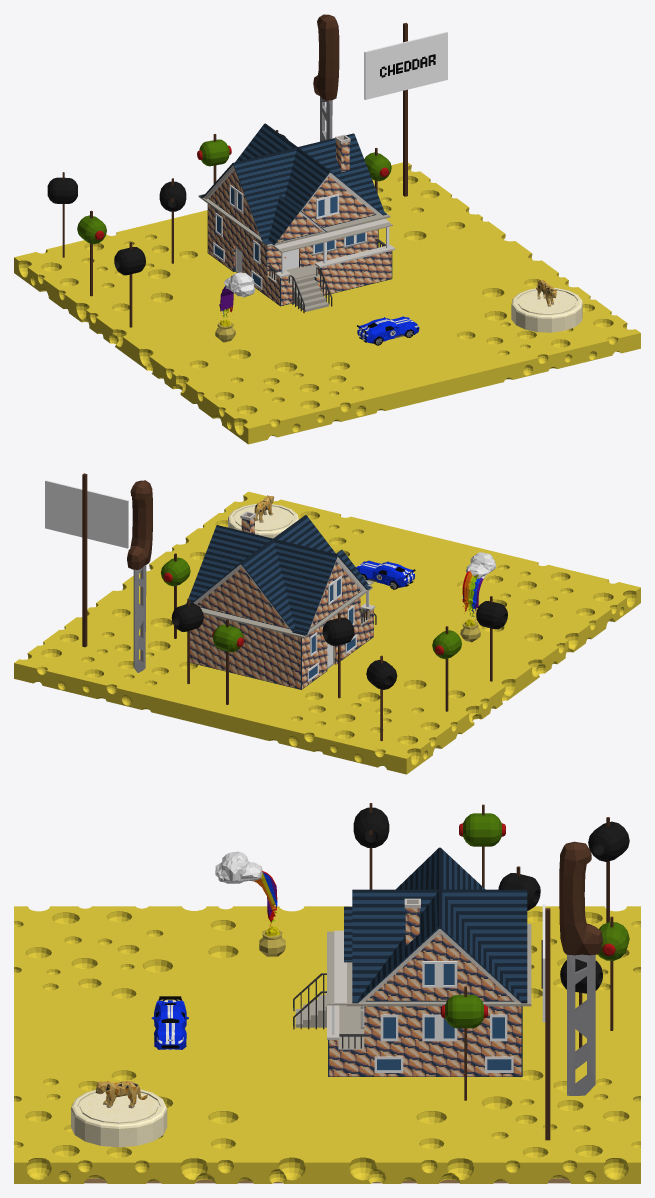
3 views of the same model, one above another, from view 1: azimuth 30°, elevation 25°; view 2: azimuth 150°, elevation 25°; view 3: azimuth 270°, elevation 25° (orthographic). The views are drawn at different scales.
Parts seen in each view (by area): view 1: Cube.022, Cube.430, Cube.023, Cylinder.016, Cube.024, OBJRANDOM_RAINBOW, VEHICLES_RACING_CAR, Sphere.017, Sphere.016, Sphere.020, Sphere.018, Sphere.022 (+1 smaller); view 2: Cube.022, Cube.430, Cube.023, Cube.024, OBJRANDOM_RAINBOW, Cylinder.016, VEHICLES_RACING_CAR, Sphere.017, Sphere.020, Sphere.021, Sphere.016, Sphere.018 (+2 smaller); view 3: Cube.022, Cube.430, Cube.024, Cylinder.016, OBJRANDOM_RAINBOW, Cube.023, VEHICLES_RACING_CAR, Sphere.019, Sphere.016, Sphere.018, Sphere.017, Sphere.022 (+4 smaller).
Part boxes in pixels (bbox=[...]): Cube.022: bbox=[14, 162, 640, 444]; Cube.430: bbox=[198, 123, 395, 313]; Cube.023: bbox=[364, 23, 447, 196]; Cylinder.016: bbox=[511, 288, 582, 332]; Cube.024: bbox=[313, 14, 339, 141]; OBJRANDOM_RAINBOW: bbox=[215, 272, 255, 342]; VEHICLES_RACING_CAR: bbox=[357, 316, 419, 345]; Sphere.017: bbox=[114, 242, 145, 327]; Sphere.016: bbox=[47, 172, 77, 257]; Sphere.020: bbox=[159, 178, 186, 263]; Sphere.018: bbox=[77, 210, 106, 296]; Sphere.022: bbox=[197, 134, 231, 183]; Cube.022: bbox=[14, 491, 640, 774]; Cube.430: bbox=[185, 511, 376, 689]; Cube.023: bbox=[45, 473, 128, 647]; Cube.024: bbox=[127, 480, 152, 672]; OBJRANDOM_RAINBOW: bbox=[460, 552, 495, 642]; Cylinder.016: bbox=[228, 504, 298, 538]; VEHICLES_RACING_CAR: bbox=[356, 560, 415, 589]; Sphere.017: bbox=[476, 596, 507, 681]; Sphere.020: bbox=[322, 612, 354, 698]; Sphere.021: bbox=[171, 598, 203, 683]; Sphere.016: bbox=[366, 655, 397, 741]; Sphere.018: bbox=[432, 626, 461, 711]; Cube.022: bbox=[14, 906, 640, 1183]; Cube.430: bbox=[293, 847, 531, 1076]; Cube.024: bbox=[559, 841, 602, 1095]; Cylinder.016: bbox=[71, 1089, 167, 1147]; OBJRANDOM_RAINBOW: bbox=[215, 851, 285, 956]; Cube.023: bbox=[541, 904, 550, 1140]; VEHICLES_RACING_CAR: bbox=[151, 996, 188, 1049]; Sphere.019: bbox=[441, 986, 487, 1100]; Sphere.016: bbox=[588, 817, 629, 922]; Sphere.018: bbox=[459, 804, 505, 887]; Sphere.017: bbox=[353, 803, 389, 889]; Sphere.022: bbox=[598, 916, 629, 1030].
Bounding box in the file's own units: 3917 × 1957 × 4000.
43 materials, 5 textured.
